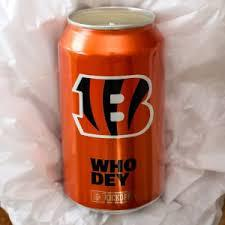beer: (57, 8, 161, 213)
